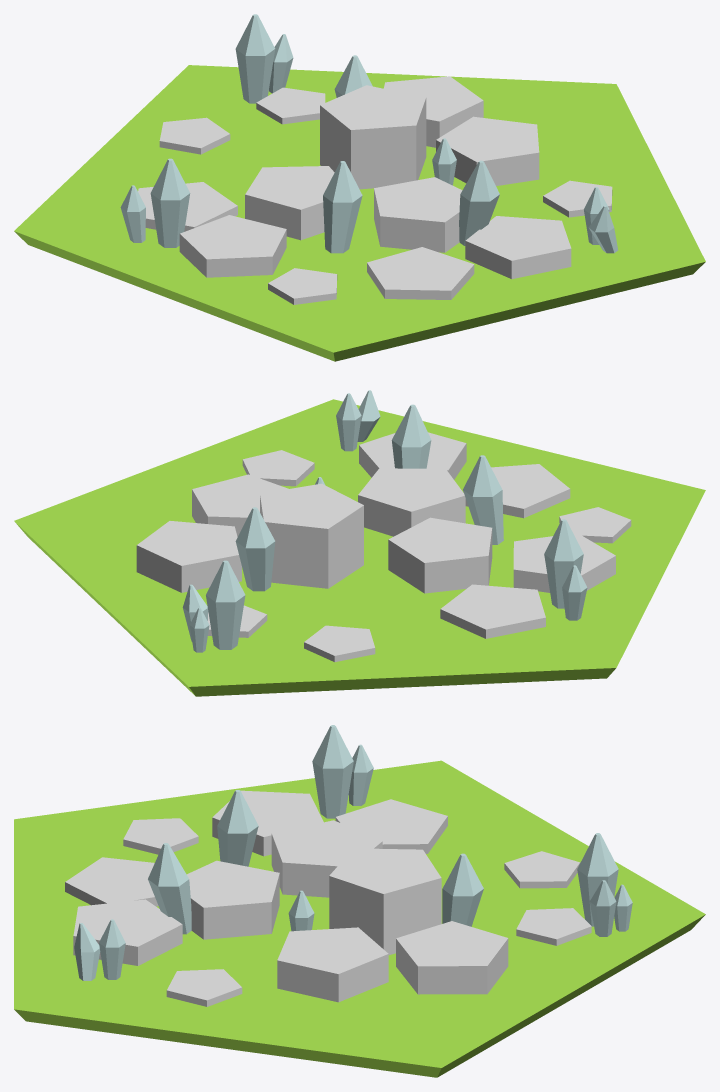
The model's file is RockTilesCrystal_white2.fbx.
3 views of the same model, one above another, from view 1: azimuth 30°, elevation 25°; view 2: azimuth 150°, elevation 25°; view 3: azimuth 270°, elevation 25° (orthographic). The views are drawn at different scales.
Visible parts, largest first — view 1: origine.005; view 2: origine.005; view 3: origine.005.
Boxes of the visible parts, x1,y1,x2,y2 form: origine.005: [14, 14, 705, 361]; origine.005: [14, 390, 705, 696]; origine.005: [14, 725, 705, 1077].
Size of the model in its own units: 111 by 17.38 by 105.
